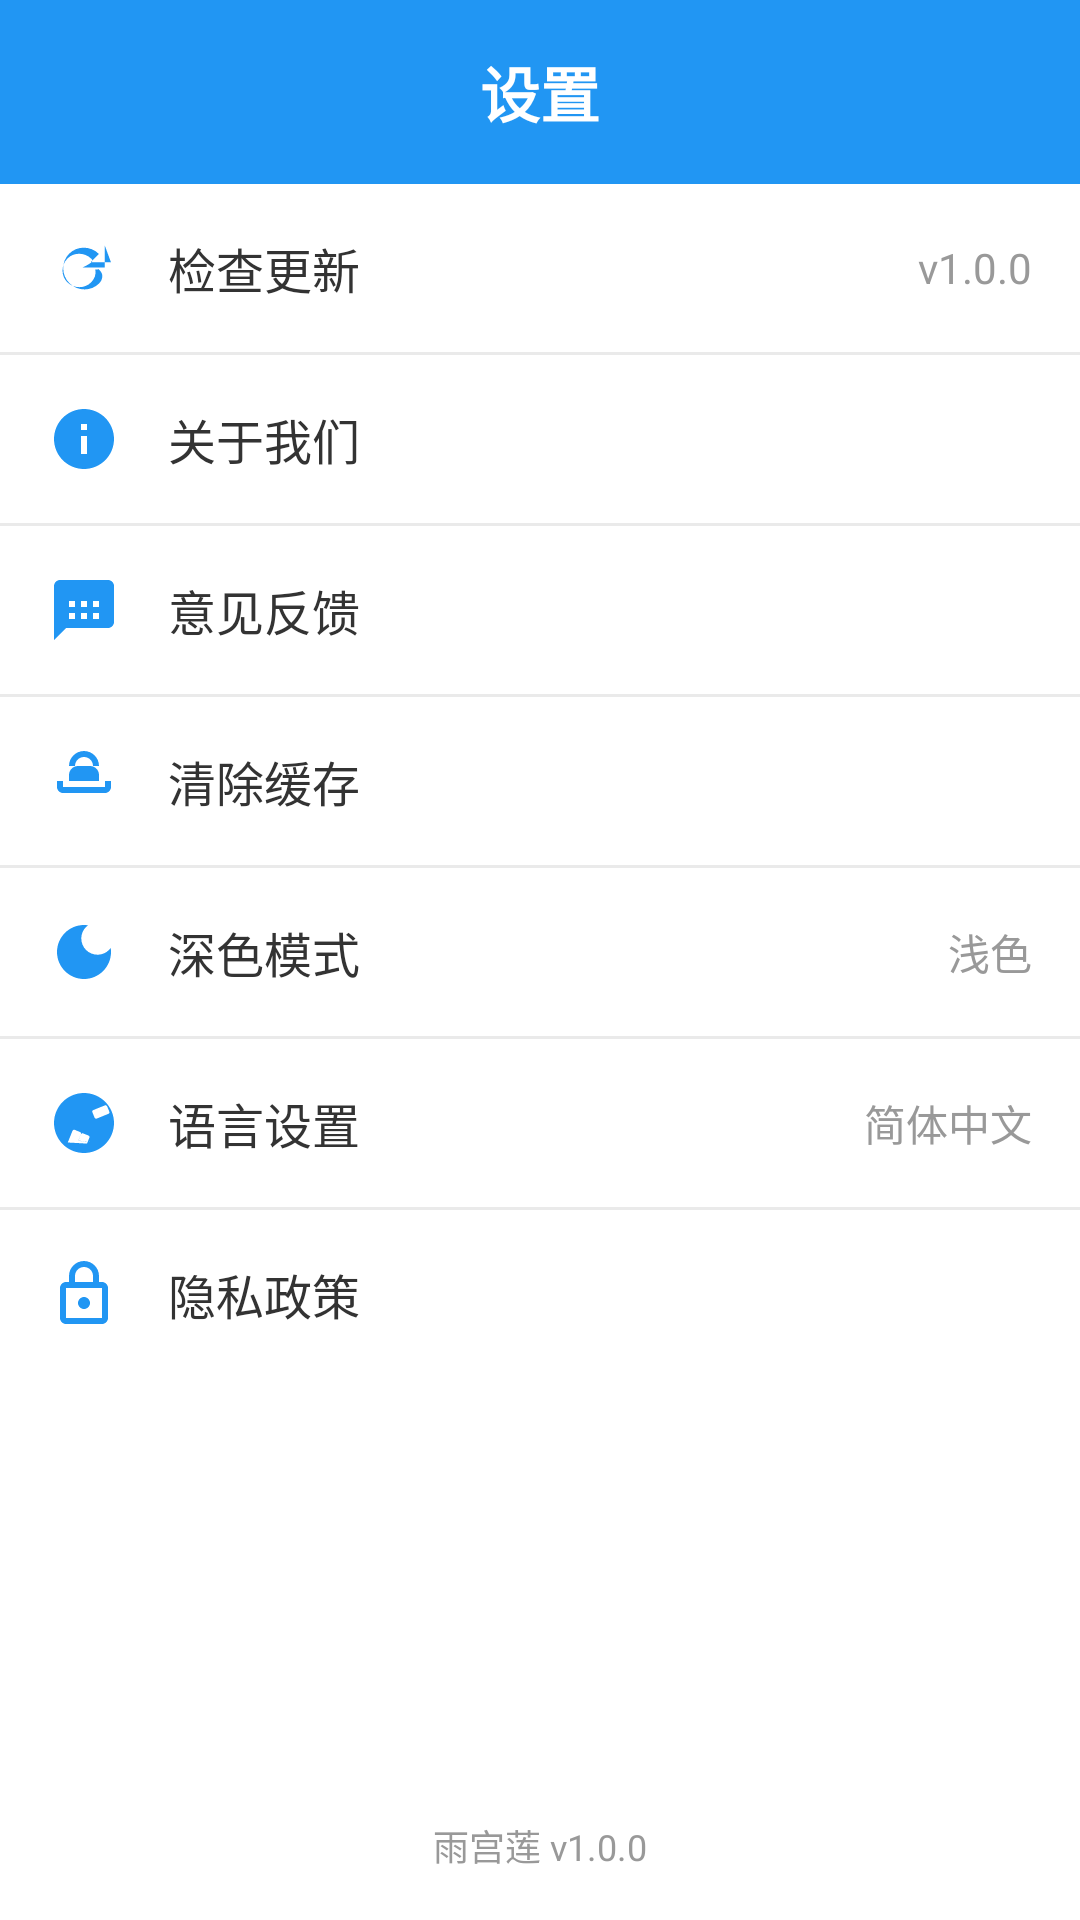

Icons on this 1080*1920 Android screen, each with its box as (x1, y1, x2, y2):
feedback: (54, 580, 114, 640)
info: (54, 409, 114, 469)
privacy: (60, 1261, 108, 1324)
theme: (57, 925, 111, 979)
update: (62, 246, 111, 290)
